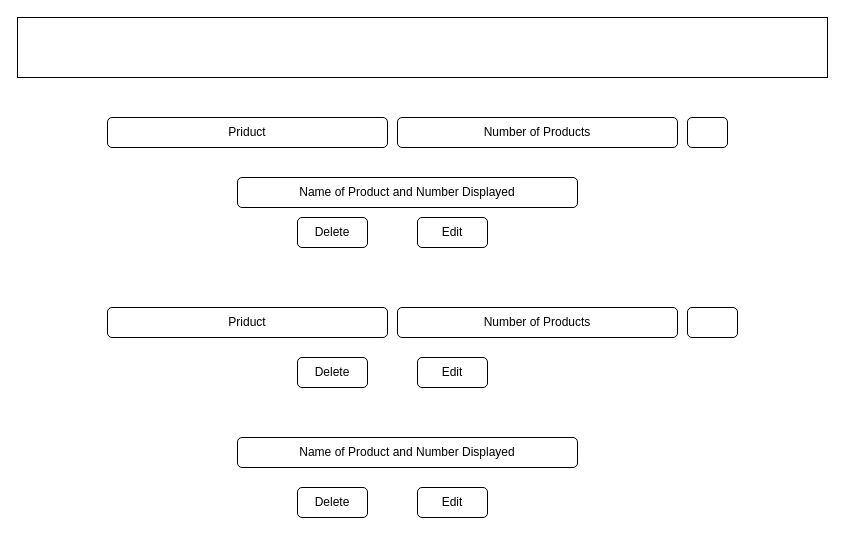
Some shapes in this 845 by 535 pixel diagram are drawn without their labels. Each missing label, with the box of its shape:
Add: (686, 116, 728, 148)
Purchase List App: (16, 16, 828, 78)
Update: (686, 306, 738, 338)
